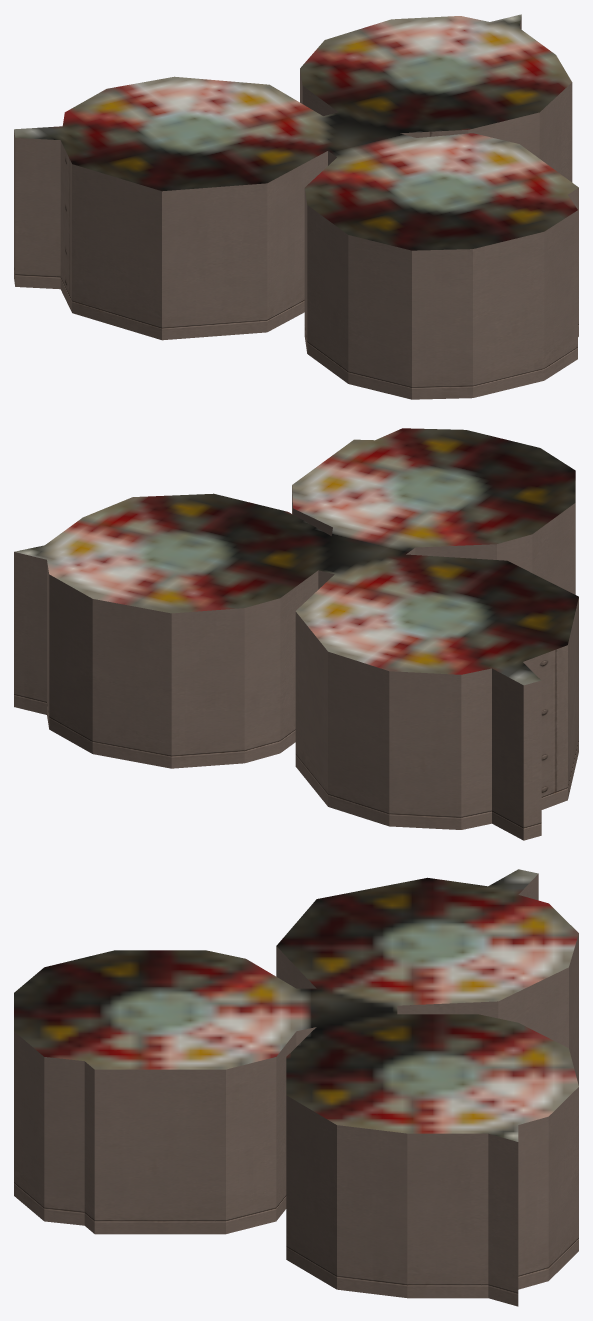
Rendered from fuel_tank_hard_34.glb.
3 renders of one model, top to bottom at view 1: azimuth 30°, elevation 25°; view 2: azimuth 150°, elevation 25°; view 3: azimuth 270°, elevation 25°, orthographic. The views are drawn at different scales.
Parts seen in each view (by area): view 1: buildings/saxarba/fuel_tanks/fuel_tank_hard_34; view 2: buildings/saxarba/fuel_tanks/fuel_tank_hard_34; view 3: buildings/saxarba/fuel_tanks/fuel_tank_hard_34.
Boxes of the visible parts, <box> form: buildings/saxarba/fuel_tanks/fuel_tank_hard_34: <box>14,14,578,399</box>; buildings/saxarba/fuel_tanks/fuel_tank_hard_34: <box>14,428,578,840</box>; buildings/saxarba/fuel_tanks/fuel_tank_hard_34: <box>14,869,578,1306</box>.
Size of the model in its own units: 64 by 18 by 56.
